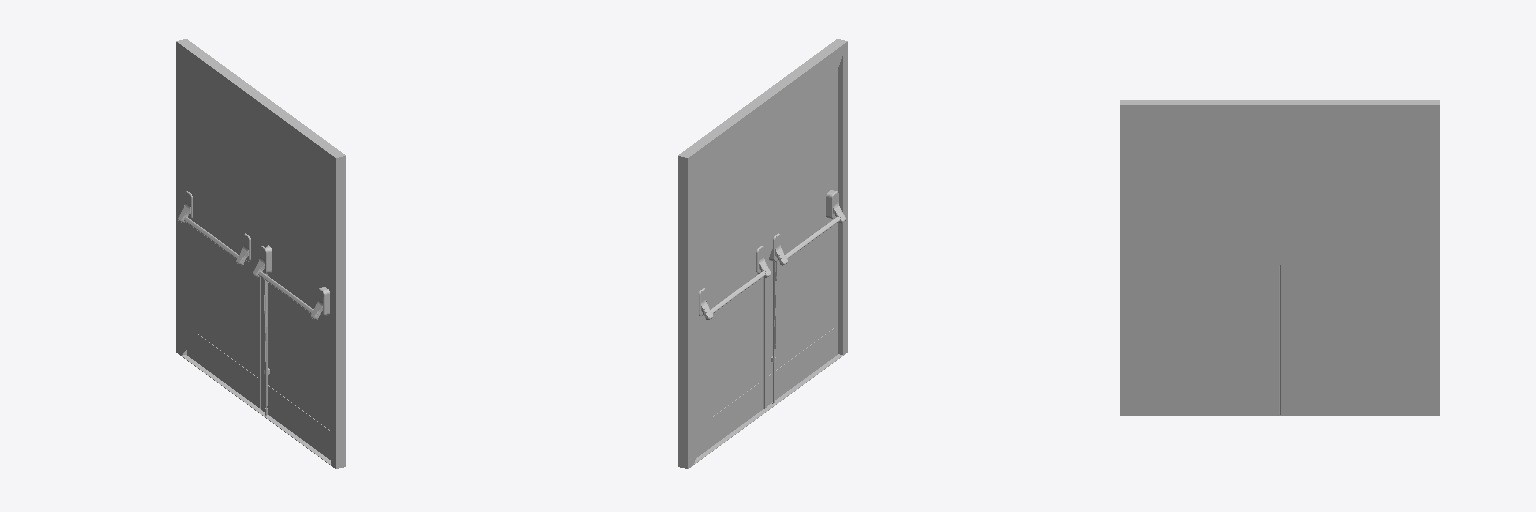
File: Fire Escape.obj
3 renders of one model, left to right at view 1: azimuth 30°, elevation 25°; view 2: azimuth 150°, elevation 25°; view 3: azimuth 270°, elevation 25°, orthographic.
Parts seen in each view (by area): view 1: Rear_Doors_Cube.022, Door_Metal_guard_Cube.026, Door_Handle_Mechanism_Cube.023, Door_Handle_Cube.025; view 2: Rear_Doors_Cube.022, Door_Metal_guard_Cube.026, Door_Handle_Mechanism_Cube.023, Door_Handle_Cube.025; view 3: Rear_Doors_Cube.022.
Part boxes in pixels (bbox=[...]): Rear_Doors_Cube.022: bbox=[176, 39, 345, 468]; Door_Metal_guard_Cube.026: bbox=[188, 334, 330, 457]; Door_Handle_Mechanism_Cube.023: bbox=[178, 191, 329, 416]; Door_Handle_Cube.025: bbox=[184, 217, 319, 317]; Rear_Doors_Cube.022: bbox=[678, 39, 847, 468]; Door_Metal_guard_Cube.026: bbox=[697, 327, 835, 454]; Door_Handle_Mechanism_Cube.023: bbox=[699, 190, 845, 404]; Door_Handle_Cube.025: bbox=[704, 217, 839, 317]; Rear_Doors_Cube.022: bbox=[1120, 100, 1439, 415].
Bounding box in the file's own units: 0.1093 × 1.57 × 1.45.